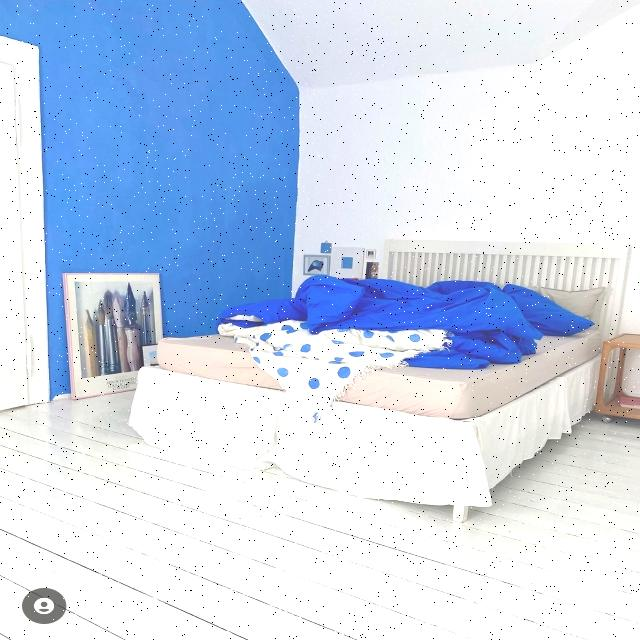bed: (132, 272, 604, 503)
